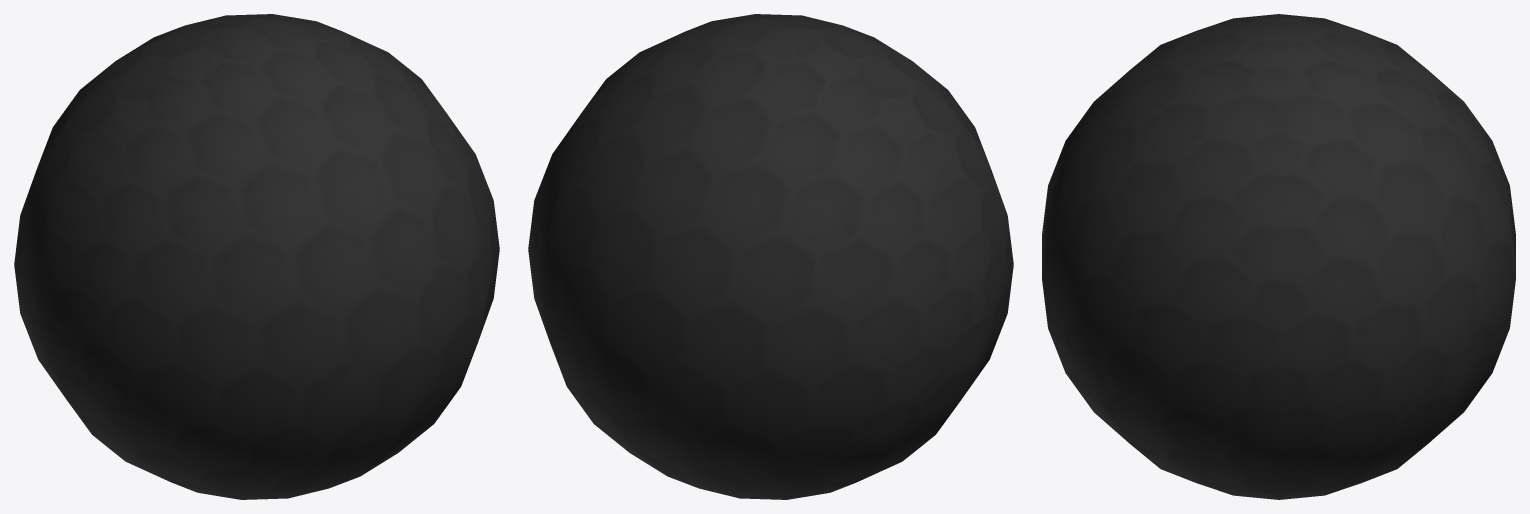
File: ball_golf.fbx
The picture shows the model from 3 angles, left to right: view 1: azimuth 30°, elevation 25°; view 2: azimuth 150°, elevation 25°; view 3: azimuth 270°, elevation 25°; orthographic projection.
Visible parts, largest first — view 1: pSphere1; view 2: pSphere1; view 3: pSphere1.
Part boxes in pixels (x1,y1,x2,y2): pSphere1: (14, 14, 499, 499); pSphere1: (528, 14, 1013, 499); pSphere1: (1042, 14, 1515, 499).
Bounding box in the file's own units: 2 × 2 × 1.95.
